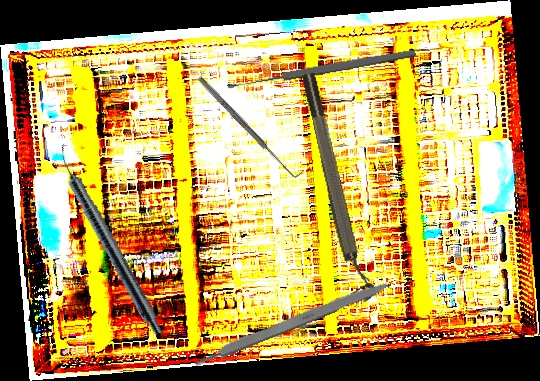Fixation Ring: (297, 69, 378, 306)
Handpiece: (48, 142, 170, 338)
Hook Surgical: (194, 70, 305, 184)
Scalpel Handle: (192, 275, 393, 369)
Surgical Spoon: (226, 47, 417, 92)
